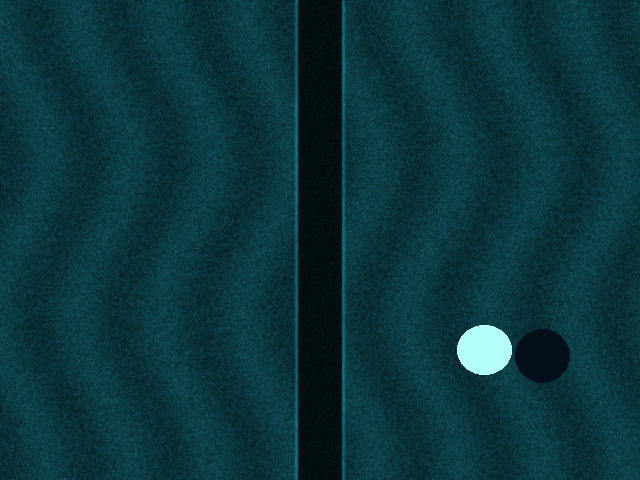Plastic Debris: (457, 325, 511, 374)
